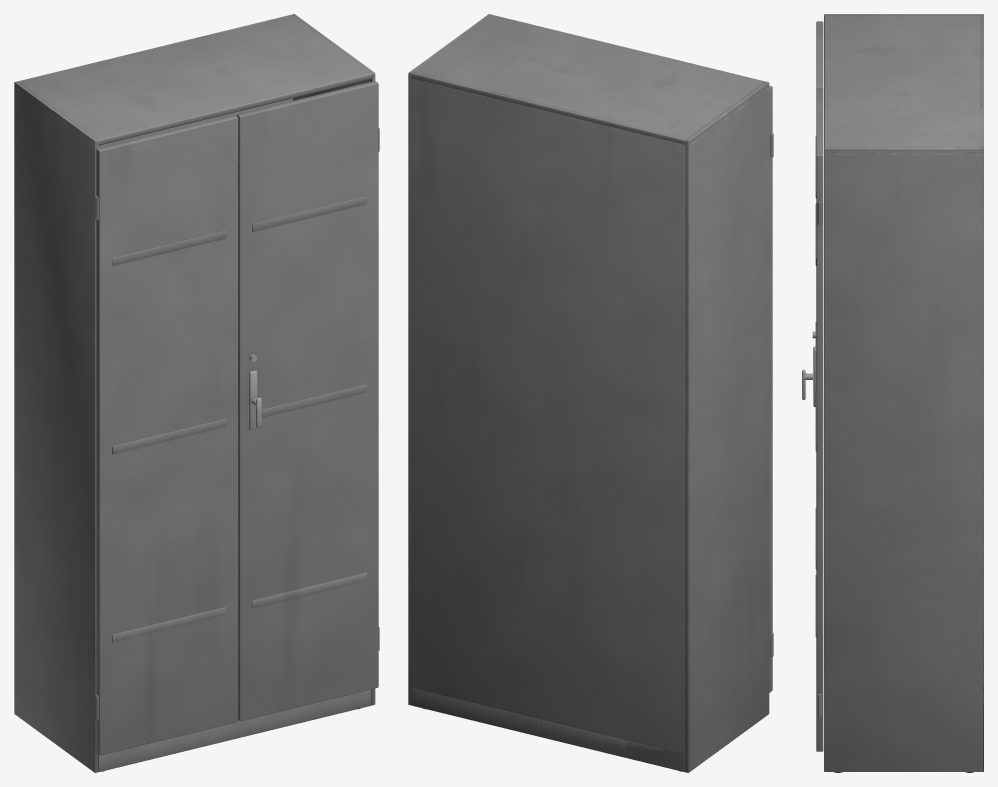
File: archiv_grau.glb
3 renders of one model, left to right at view 1: azimuth 30°, elevation 25°; view 2: azimuth 150°, elevation 25°; view 3: azimuth 270°, elevation 25°, orthographic.
Visible parts, largest first — view 1: tuer_links, tuer_rechts, korpus; view 2: korpus, tuer_links; view 3: korpus, tuer_rechts, tuer_links.
Boxes of the visible parts, <box> form: tuer_links: <box>96,115,238,755</box>; tuer_rechts: <box>236,81,378,721</box>; korpus: <box>14,14,379,772</box>; korpus: <box>408,14,773,772</box>; tuer_links: <box>769,85,772,692</box>; korpus: <box>817,14,983,772</box>; tuer_rechts: <box>802,89,823,751</box>; tuer_links: <box>815,21,823,569</box>.
Bounding box in the file's own units: 0.9093 × 1.95 × 0.512.
1 material, 1 textured.
